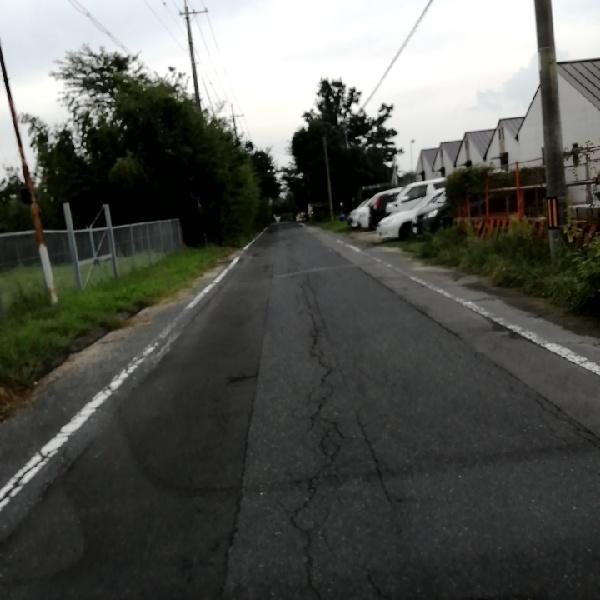D00: (277, 318, 393, 584), (503, 380, 593, 451)
